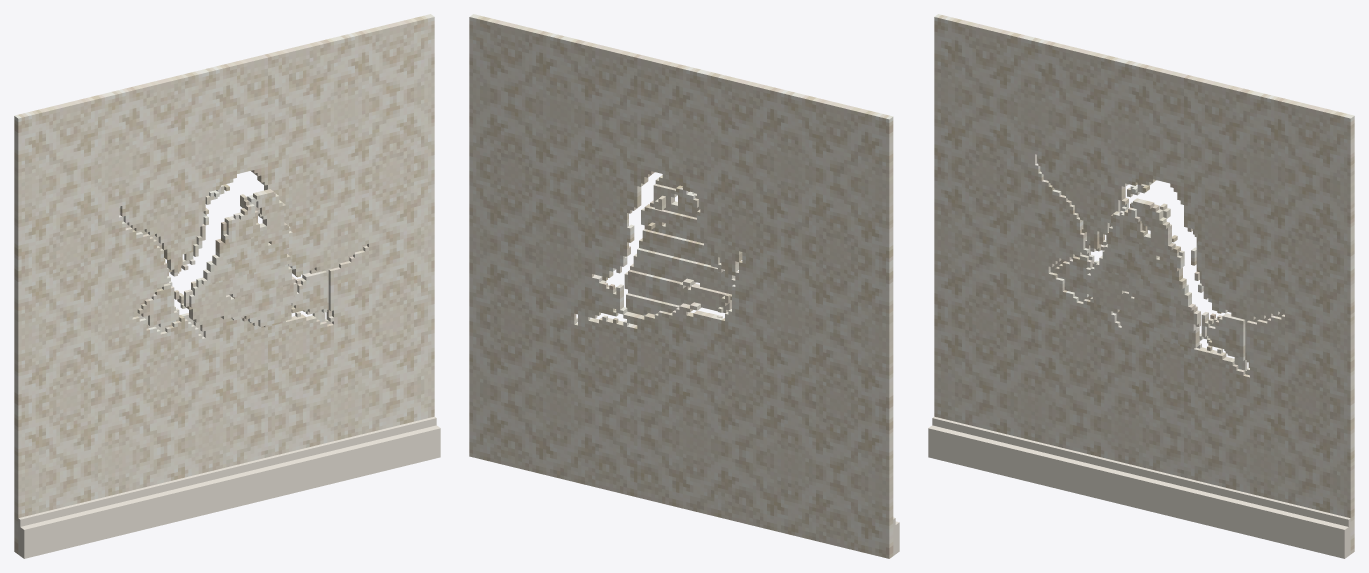
The model's file is w2.vox.obj.
3 renders of one model, left to right at view 1: azimuth 30°, elevation 25°; view 2: azimuth 150°, elevation 25°; view 3: azimuth 330°, elevation 25°, orthographic.
Parts seen in each view (by area): view 1: wall paper; view 2: wall paper; view 3: wall paper.
Boxes of the visible parts, x1,y1,x2,y2 form: wall paper: [14, 14, 440, 558]; wall paper: [469, 14, 899, 558]; wall paper: [928, 14, 1354, 558].
Size of the model in its own units: 12 by 12 by 1.2.
Materials: 1 (1 with a texture image).
